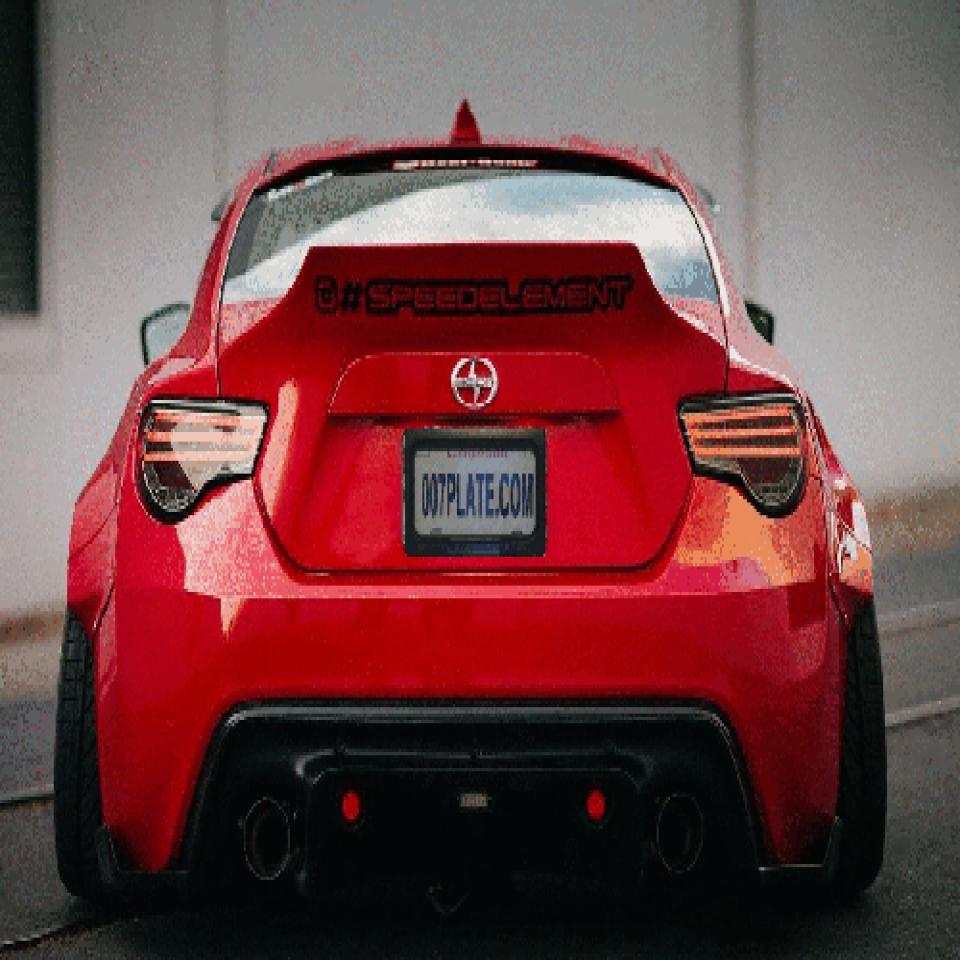licence: (400, 435, 538, 554)
